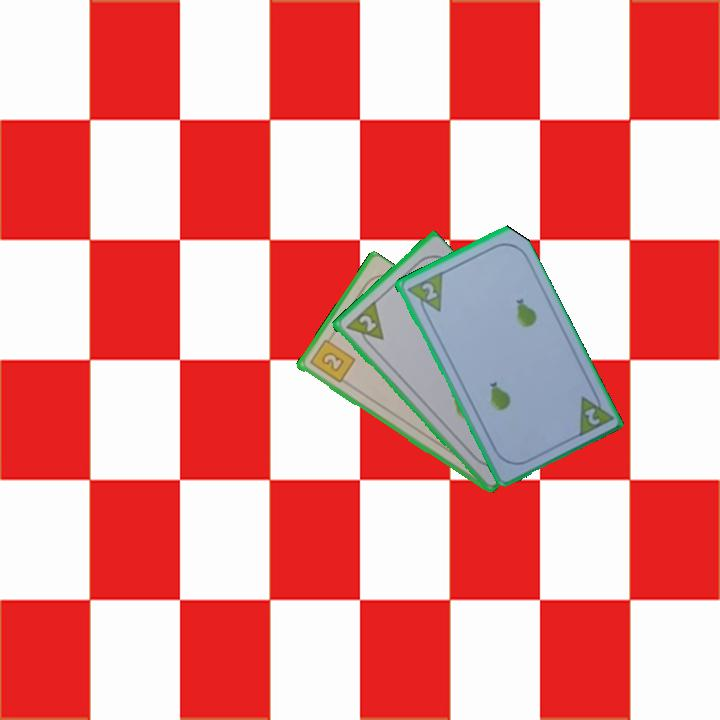2b: (306, 332, 357, 386)
2p: (341, 298, 387, 352), (403, 269, 445, 320), (580, 404, 603, 428)
